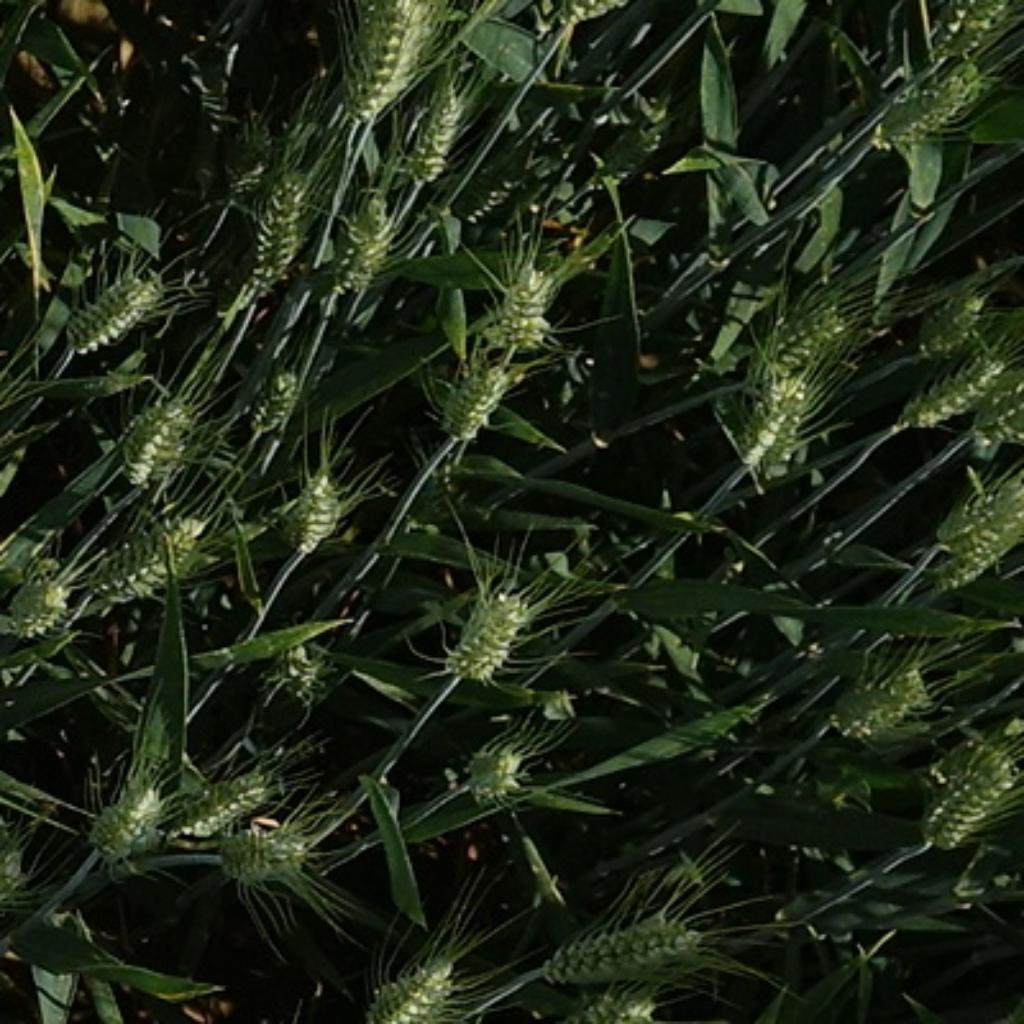0-0: (272, 0, 1014, 714), (79, 494, 235, 614), (529, 896, 719, 990), (862, 51, 1000, 145), (916, 471, 1024, 588), (243, 153, 318, 318), (341, 1, 436, 124), (56, 261, 169, 363), (893, 340, 1018, 432), (923, 741, 1022, 856), (437, 573, 540, 683), (732, 353, 824, 476), (107, 391, 215, 488), (757, 284, 865, 381), (823, 655, 938, 745), (168, 747, 281, 837), (76, 760, 174, 862), (476, 248, 568, 355), (204, 814, 327, 893), (424, 345, 519, 442), (353, 944, 465, 1024), (325, 176, 399, 296), (394, 74, 473, 184), (273, 458, 355, 558), (604, 94, 688, 186), (450, 140, 537, 225), (906, 276, 990, 358), (1, 561, 77, 638), (458, 732, 535, 808), (537, 983, 663, 1024), (221, 110, 277, 197), (250, 352, 303, 441)
